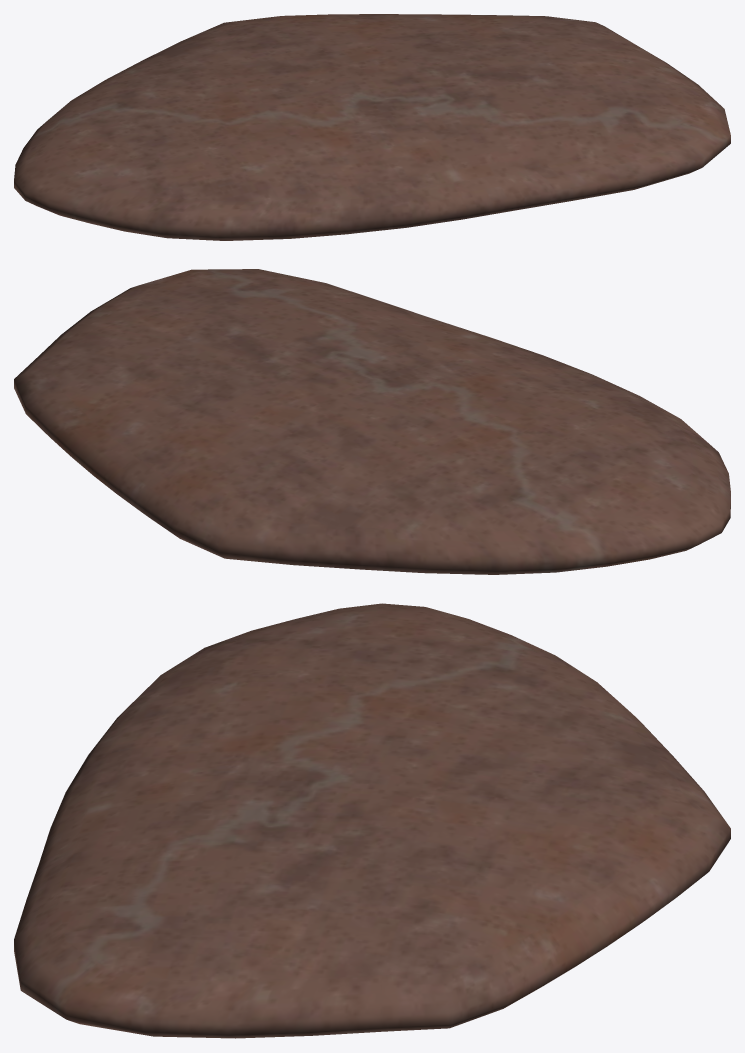
Rendered from standard_06.glb.
3 renders of one model, top to bottom at view 1: azimuth 30°, elevation 25°; view 2: azimuth 150°, elevation 25°; view 3: azimuth 270°, elevation 25°, orthographic. The views are drawn at different scales.
Parts seen in each view (by area): view 1: standard_06; view 2: standard_06; view 3: standard_06.
Part boxes in pixels (box(x1,y1,x2,y2)): standard_06: box(14, 14, 730, 240); standard_06: box(14, 269, 730, 574); standard_06: box(14, 603, 730, 1038).
Bounding box in the file's own units: 0.081 × 0.00937 × 0.059.
Materials: 1 (1 with a texture image).
